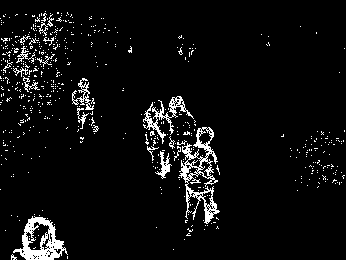person: (186, 126, 219, 236), (140, 98, 172, 180), (73, 77, 101, 146), (168, 94, 191, 148)
